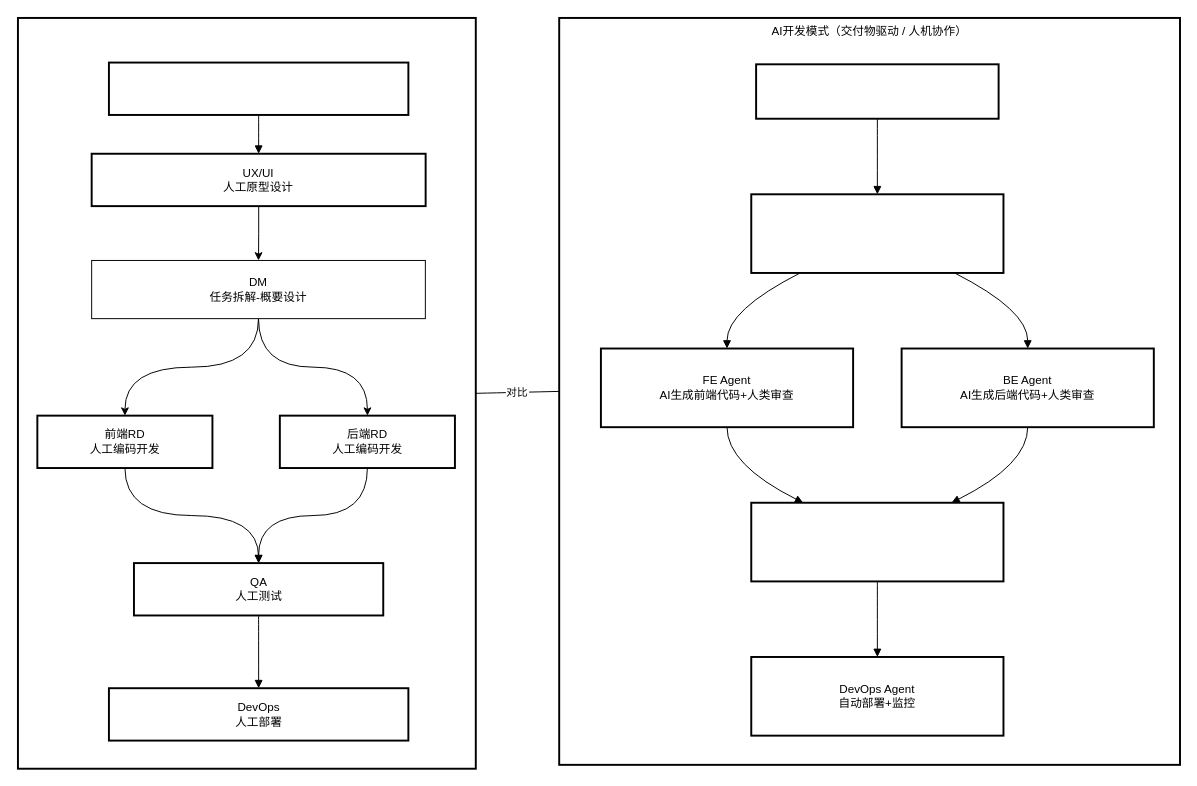
Some shapes in this 1197 by 786 pixel diagram are drawn without their labels. The box of each missing label's shape, as (x1, y1, x2, y2) in pixels:
PM Agent AI辅助需求分析: (755, 63, 999, 119)
PM 人工需求分析: (107, 61, 409, 115)
QA Agent AI自动测试+人类验证: (750, 501, 1004, 582)
UX Agent AI原型生成+人类创意: (750, 193, 1004, 273)
传统开发模式（任务驱动 / 人工主体）: (16, 16, 476, 769)
